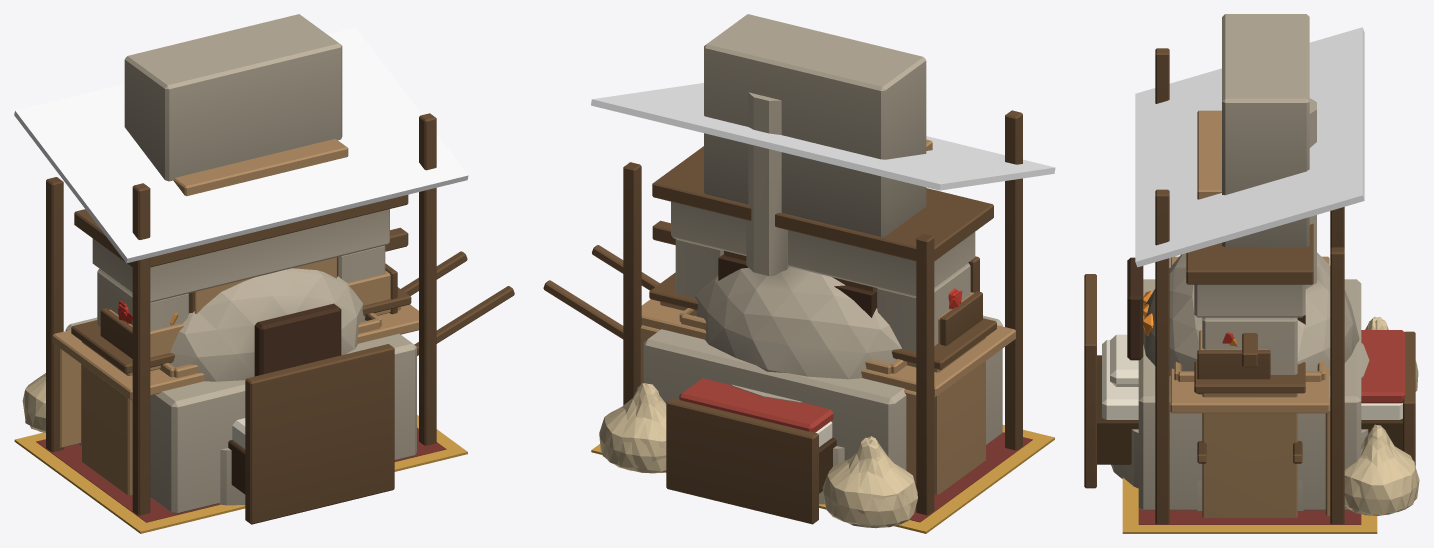
File: kit.glb
3 renders of one model, left to right at view 1: azimuth 30°, elevation 25°; view 2: azimuth 150°, elevation 25°; view 3: azimuth 270°, elevation 25°, orthographic. The views are drawn at different scales.
Visible parts, largest first — view 1: stall, hearth, oven, bed, counter, rug, wardrobe, cart, millstone, stall_bread; view 2: hearth, stall, oven, bed, counter, stall_bread, rug, cart, millstone; view 3: stall, hearth, oven, bed, counter, rug, stall_bread, wardrobe, millstone, cart.
Part boxes in pixels (<box>): stall: <box>14,27,468,515</box>; hearth: <box>74,14,408,330</box>; oven: <box>65,268,416,513</box>; bed: <box>228,344,394,524</box>; counter: <box>71,287,411,495</box>; rug: <box>14,415,467,533</box>; wardrobe: <box>173,138,348,313</box>; cart: <box>159,251,514,377</box>; millstone: <box>218,227,408,505</box>; stall_bread: <box>22,313,178,431</box>; hearth: <box>652,14,993,351</box>; stall: <box>591,83,1055,528</box>; oven: <box>643,92,1002,470</box>; bed: <box>666,256,979,524</box>; counter: <box>649,272,996,494</box>; stall_bread: <box>599,384,917,527</box>; rug: <box>591,425,1054,533</box>; cart: <box>543,245,906,374</box>; millstone: <box>652,220,844,504</box>; stall: <box>1135,27,1417,524</box>; hearth: <box>1186,14,1313,510</box>; oven: <box>1127,98,1361,510</box>; bed: <box>1084,274,1415,488</box>; counter: <box>1194,361,1305,517</box>; rug: <box>1122,477,1377,533</box>; stall_bread: <box>1222,317,1419,514</box>; wardrobe: <box>1197,110,1221,199</box>; millstone: <box>1111,333,1369,488</box>; cart: <box>1174,360,1325,463</box>.
Bounding box in the file's own units: 4.91 × 4.42 × 3.37.
